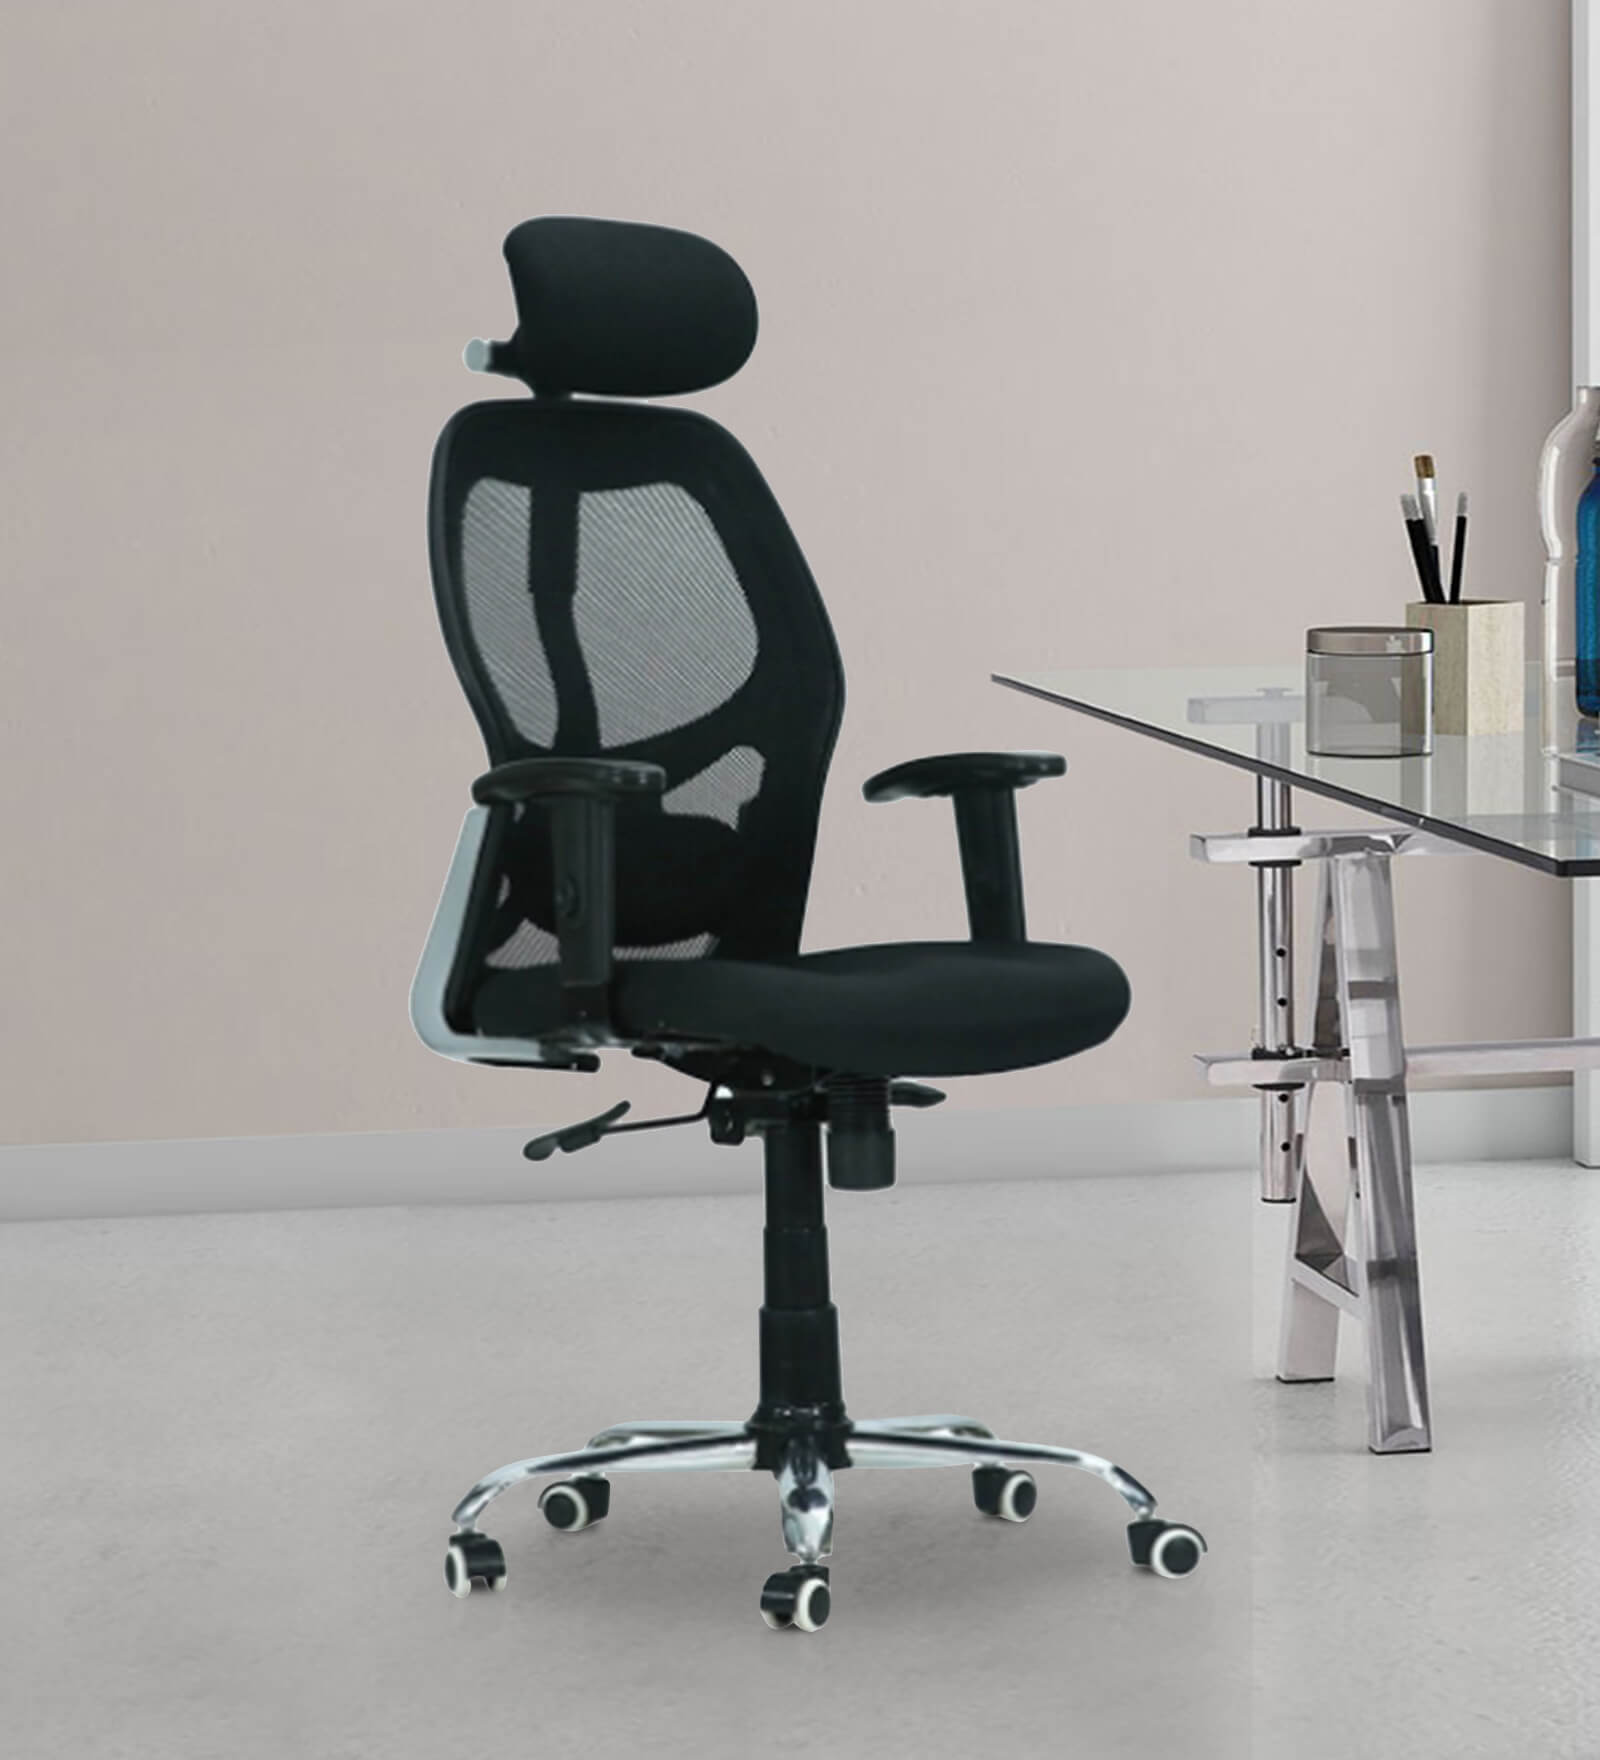Swivel High Back Ergonomic Chair with headrest In Black Colour By Furniease: (265, 136, 1244, 1754)
